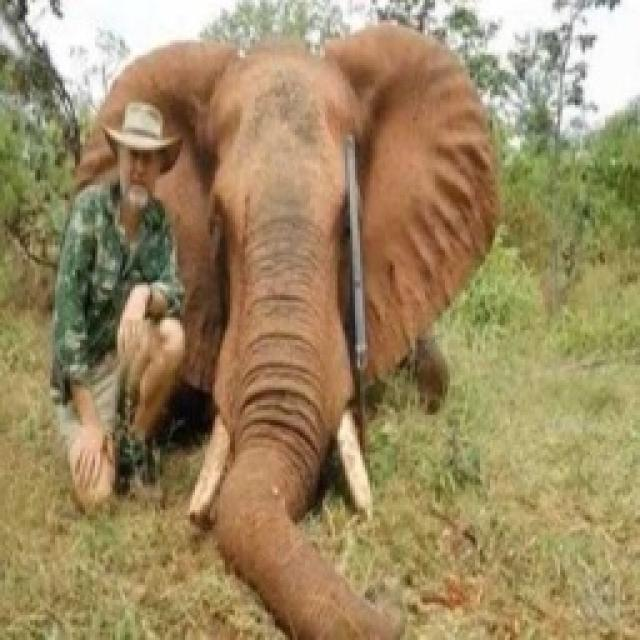not_pig: (68, 20, 502, 638)
